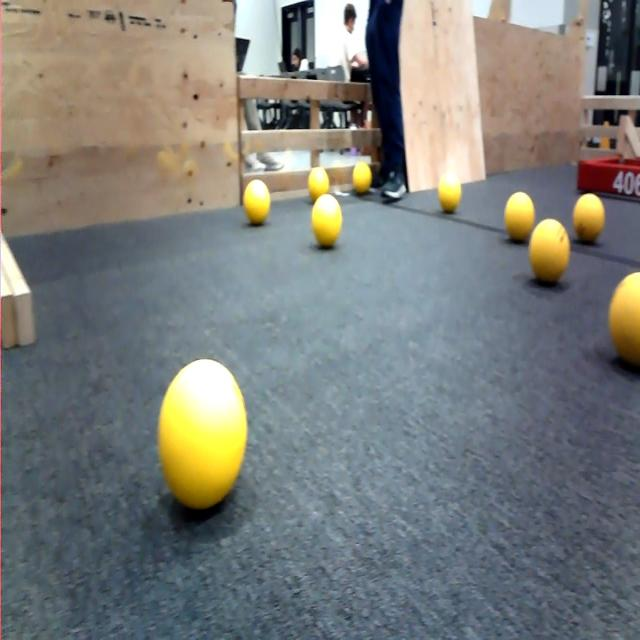Bumper: (574, 142, 640, 212)
fuel: (155, 348, 255, 516), (605, 262, 640, 379), (524, 218, 575, 292), (306, 191, 348, 254), (569, 186, 608, 248), (502, 186, 538, 244), (239, 176, 274, 233), (434, 167, 466, 226), (346, 158, 374, 197), (306, 163, 331, 193)
